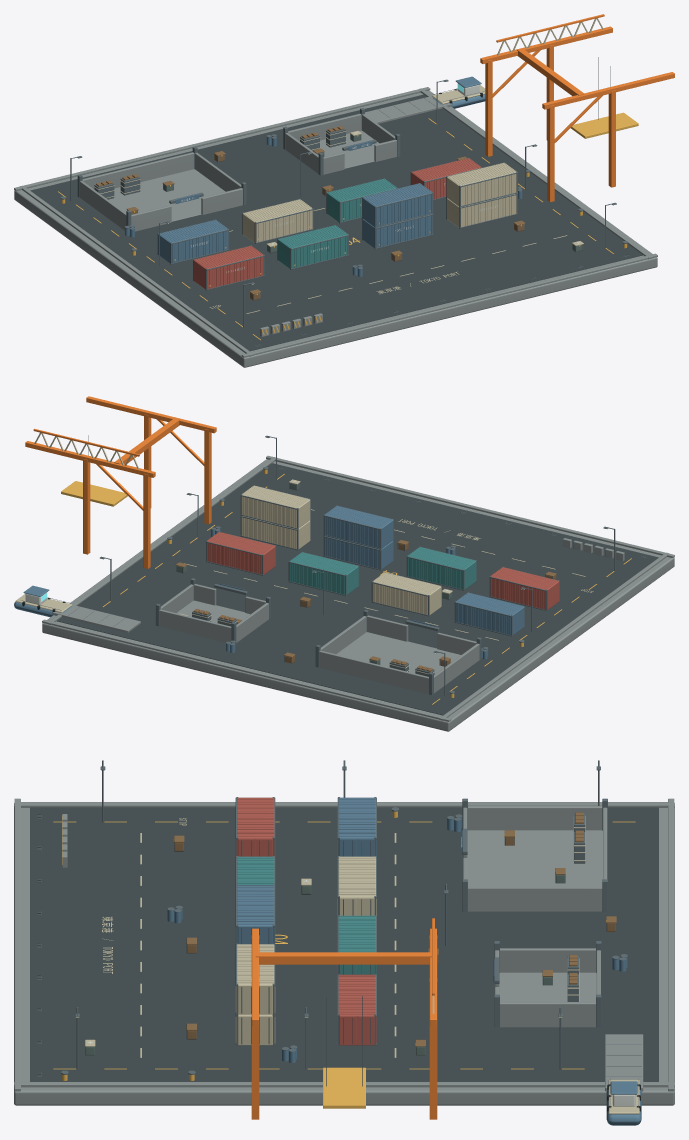
File: harbor.glb
3 renders of one model, top to bottom at view 1: azimuth 30°, elevation 25°; view 2: azimuth 150°, elevation 25°; view 3: azimuth 270°, elevation 25°, orthographic. The views are drawn at different scales.
Visible parts, largest first — view 1: Wet asphalt, Quay foundation, Warehouse floor, Container body.005, Container body, Container body.003, Container body.002, Container body.001, Container body.008, Quay curb.003, Quay curb.002, Warehouse north (+21 smaller); view 2: Wet asphalt, Quay foundation, Warehouse floor, Container body.009, Container body.001, Container body.003, Container body.008, Container body.002, Container body.005, Container body.006, Container body, Warehouse north (+21 smaller); view 3: Wet asphalt, Quay foundation, Warehouse floor, Warehouse east, Quay curb.001, Warehouse west, Quay curb, Warehouse east.001, Warehouse floor.001, Crane cross bridge, Warehouse west.001, Quay curb.002 (+14 smaller).
Boxes of the visible parts, x1,y1,x2,y2 form: Wet asphalt: (30, 94, 642, 351); Quay foundation: (14, 90, 657, 367); Warehouse floor: (108, 169, 225, 221); Container body.005: (362, 183, 431, 226); Container body: (193, 246, 262, 289); Container body.003: (242, 199, 311, 242); Container body.002: (278, 225, 347, 268); Container body.001: (158, 220, 227, 263); Container body.008: (447, 163, 515, 206); Quay curb.003: (241, 253, 657, 357); Quay curb.002: (14, 87, 430, 191); Warehouse north: (82, 152, 194, 189); Wet asphalt: (57, 463, 658, 715); Quay foundation: (42, 459, 674, 731); Warehouse floor: (336, 632, 460, 674); Container body.009: (207, 532, 275, 574); Container body.001: (456, 593, 524, 635); Container body.003: (373, 572, 441, 614); Container body.008: (242, 486, 310, 528); Container body.002: (408, 547, 476, 589); Container body.005: (325, 506, 393, 548); Container body.006: (290, 552, 358, 594); Container body: (491, 567, 559, 609); Warehouse north: (319, 650, 428, 694); Wet asphalt: (30, 807, 658, 1081); Quay foundation: (14, 802, 674, 1105); Warehouse floor: (467, 830, 602, 886); Warehouse east: (468, 886, 602, 911); Quay curb.001: (14, 1082, 674, 1087); Warehouse west: (468, 806, 602, 830); Quay curb: (14, 802, 674, 807); Warehouse east.001: (500, 1002, 595, 1027); Warehouse floor.001: (499, 972, 596, 1001); Crane cross bridge: (255, 952, 431, 964); Warehouse west.001: (500, 948, 595, 972); Quay curb.002: (668, 798, 674, 1091).
Bounding box in the file's own units: 67 × 15.41 × 52.
